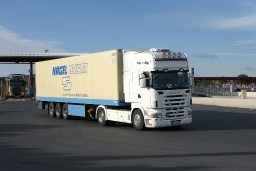truck: (34, 47, 196, 129), (9, 72, 25, 99)
